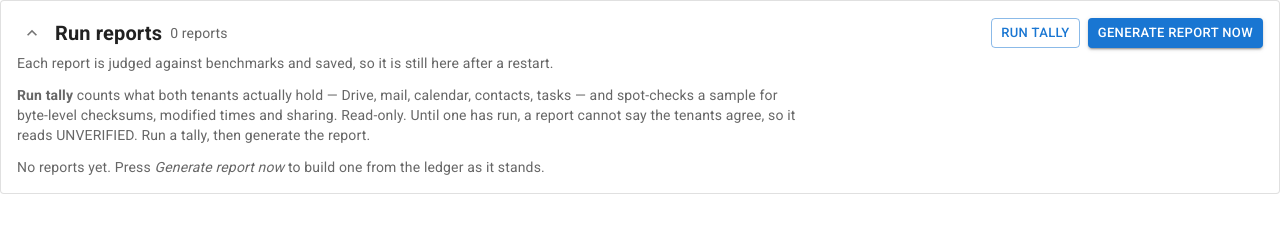
Scenario: RunReports › shows why a tally could not start
Click the button "Run tally": (1035,33) [991, 18, 1080, 48]
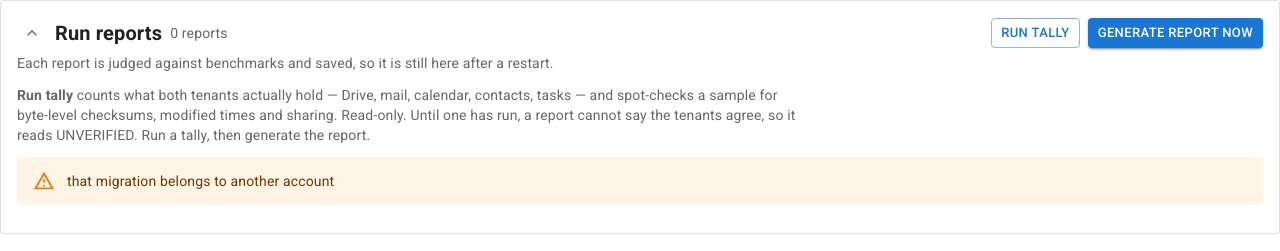
Now the text "that migration belongs to another account" is shown, box [67, 173, 334, 189]
